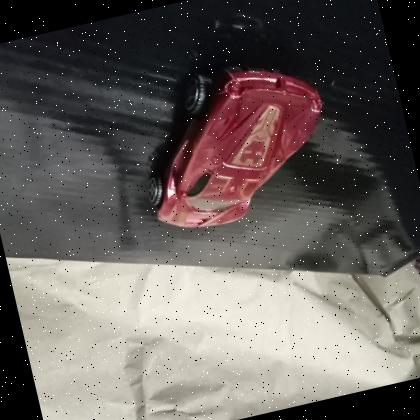Car: (147, 64, 322, 227)
